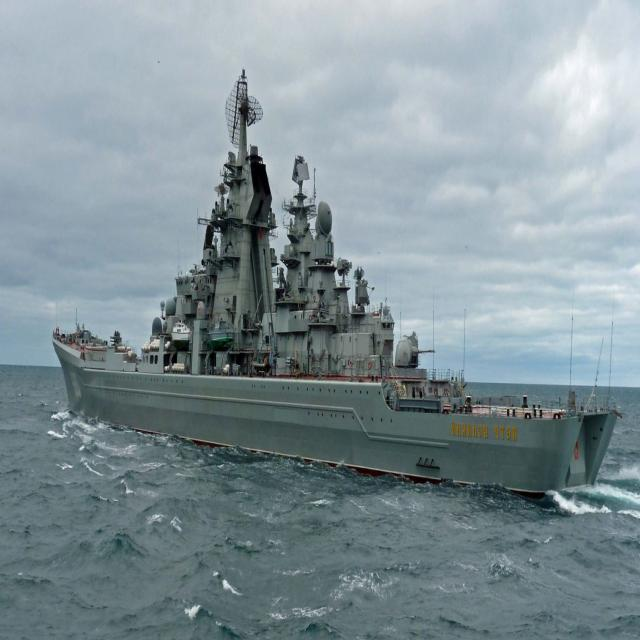navalvessels: (39, 66, 632, 493)
